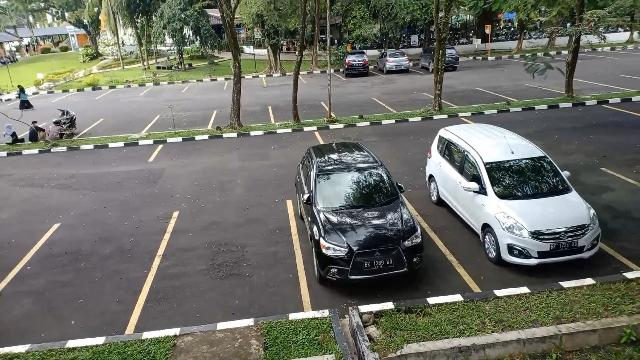empty: (3, 222, 165, 346), (148, 212, 298, 328), (150, 111, 218, 131), (86, 117, 154, 137), (445, 87, 507, 107), (212, 109, 274, 128), (386, 93, 444, 113), (326, 98, 390, 116), (500, 85, 562, 102), (270, 102, 328, 120), (302, 66, 340, 86), (264, 68, 304, 86), (226, 72, 264, 90), (98, 84, 146, 98), (604, 74, 640, 92), (141, 82, 189, 94), (183, 79, 229, 91)
occupied: (428, 170, 604, 288), (296, 190, 430, 302), (338, 57, 376, 79), (376, 54, 412, 76)
